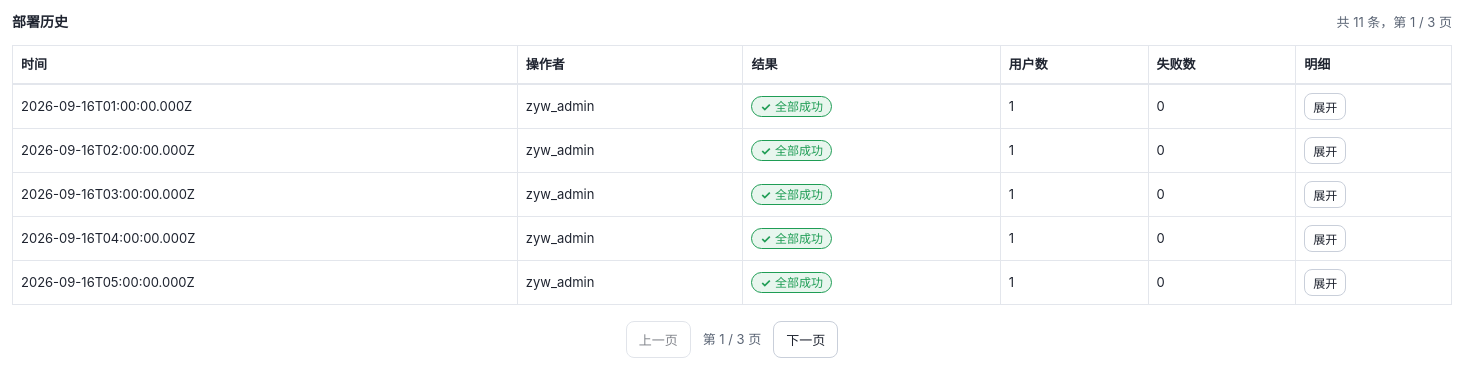
Test case: DeployHistoryList —— 分页（每页 5 条） › 记录变少导致页码越界时收敛到最后一页（不出现空白页）
The width and height of the screenshot is (1464, 375).
Step 1. Click the button "下一页" → (806, 339), box [773,321,838,358]
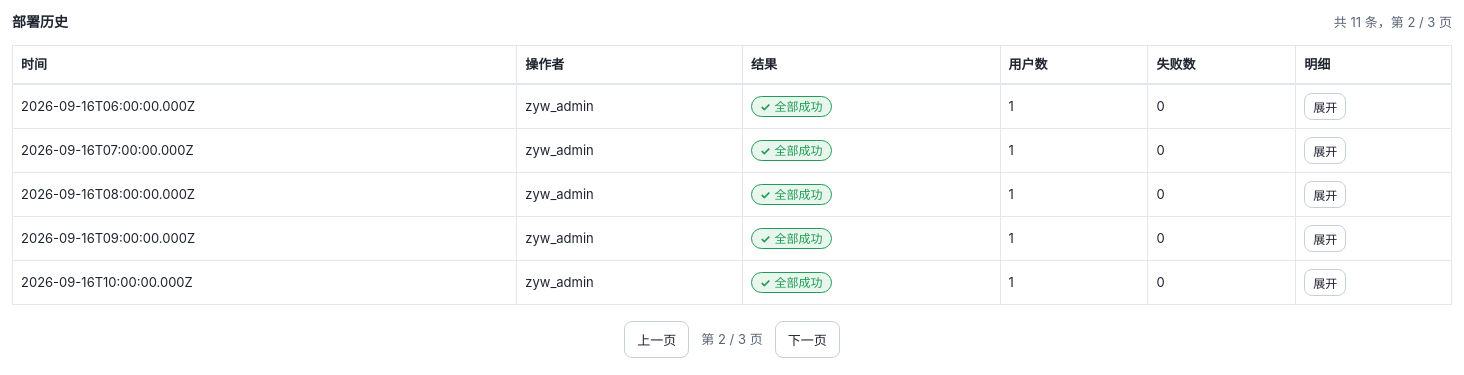
Step 2. Click the button "下一页" → (807, 339), box [775,321,840,358]
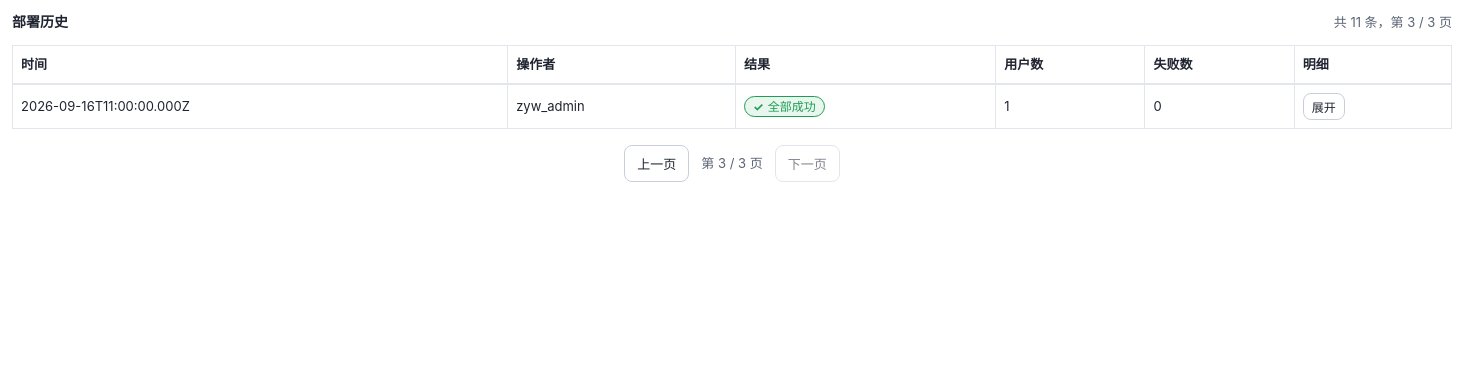
Now the text "第 3 / 3 页" is shown, box [1334,14,1452,30]
